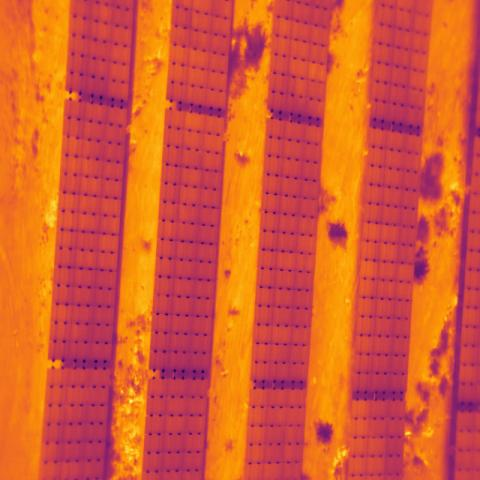fault: (308, 61, 327, 84)
